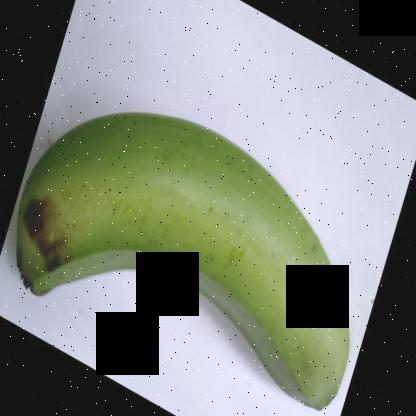freshunripe: (0, 104, 361, 415)
